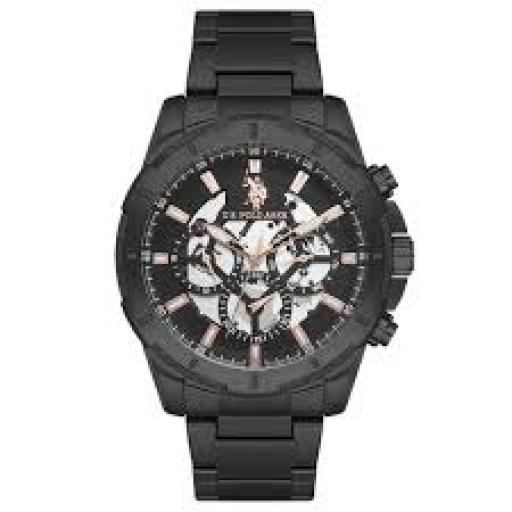KolSaati: (112, 7, 422, 506)
